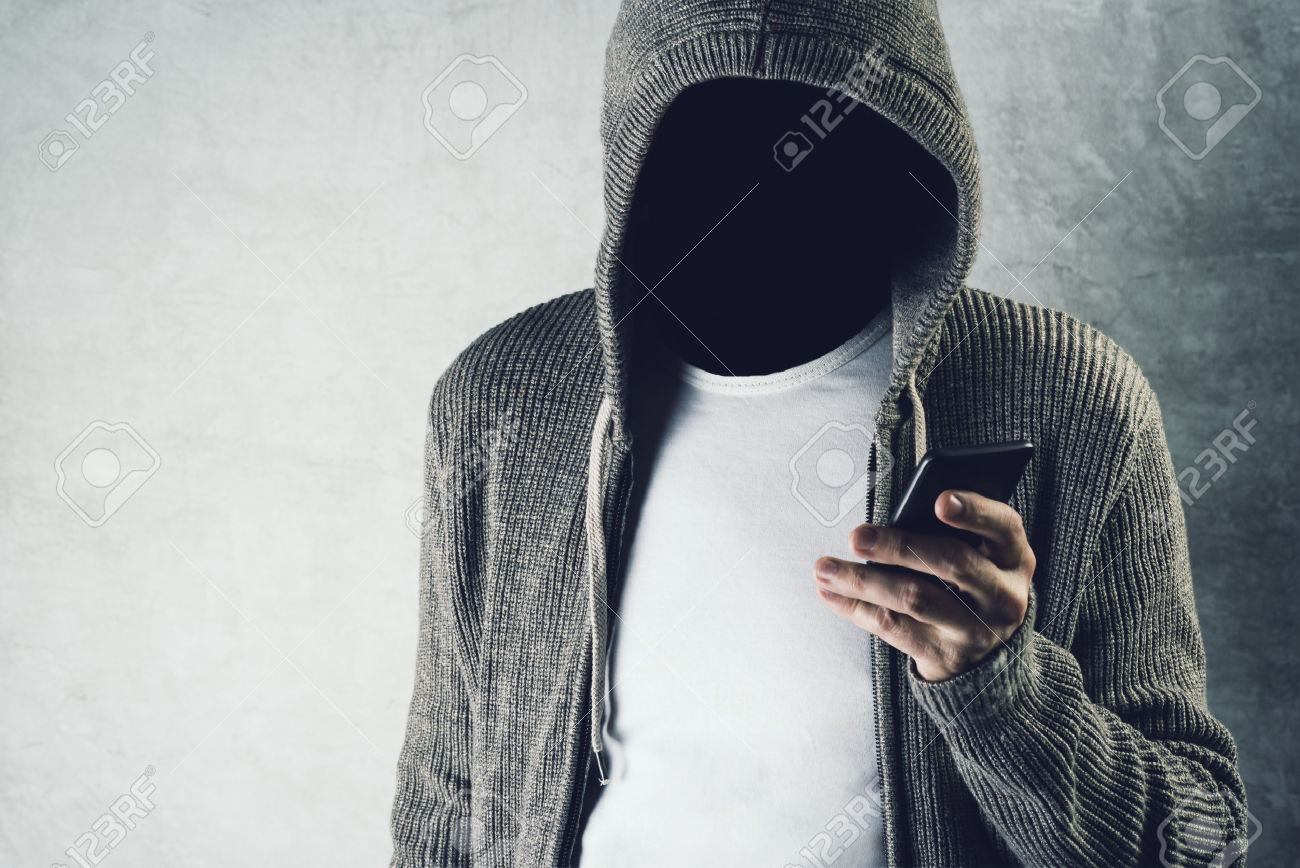smartphone: (864, 439, 1038, 576)
